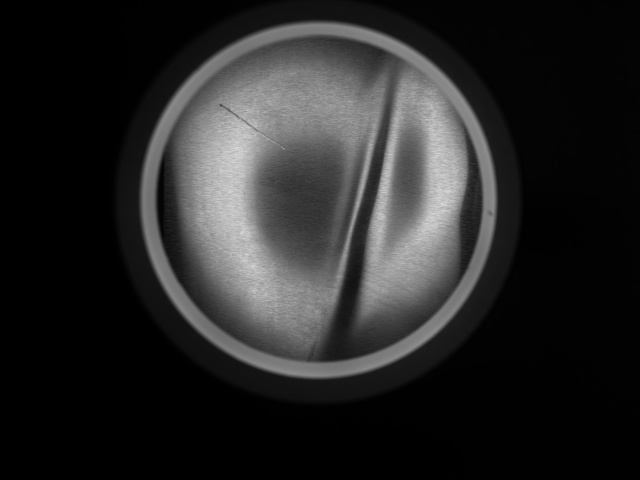ca_shang: (215, 102, 290, 157)
zhe_zhou: (198, 67, 441, 331)
